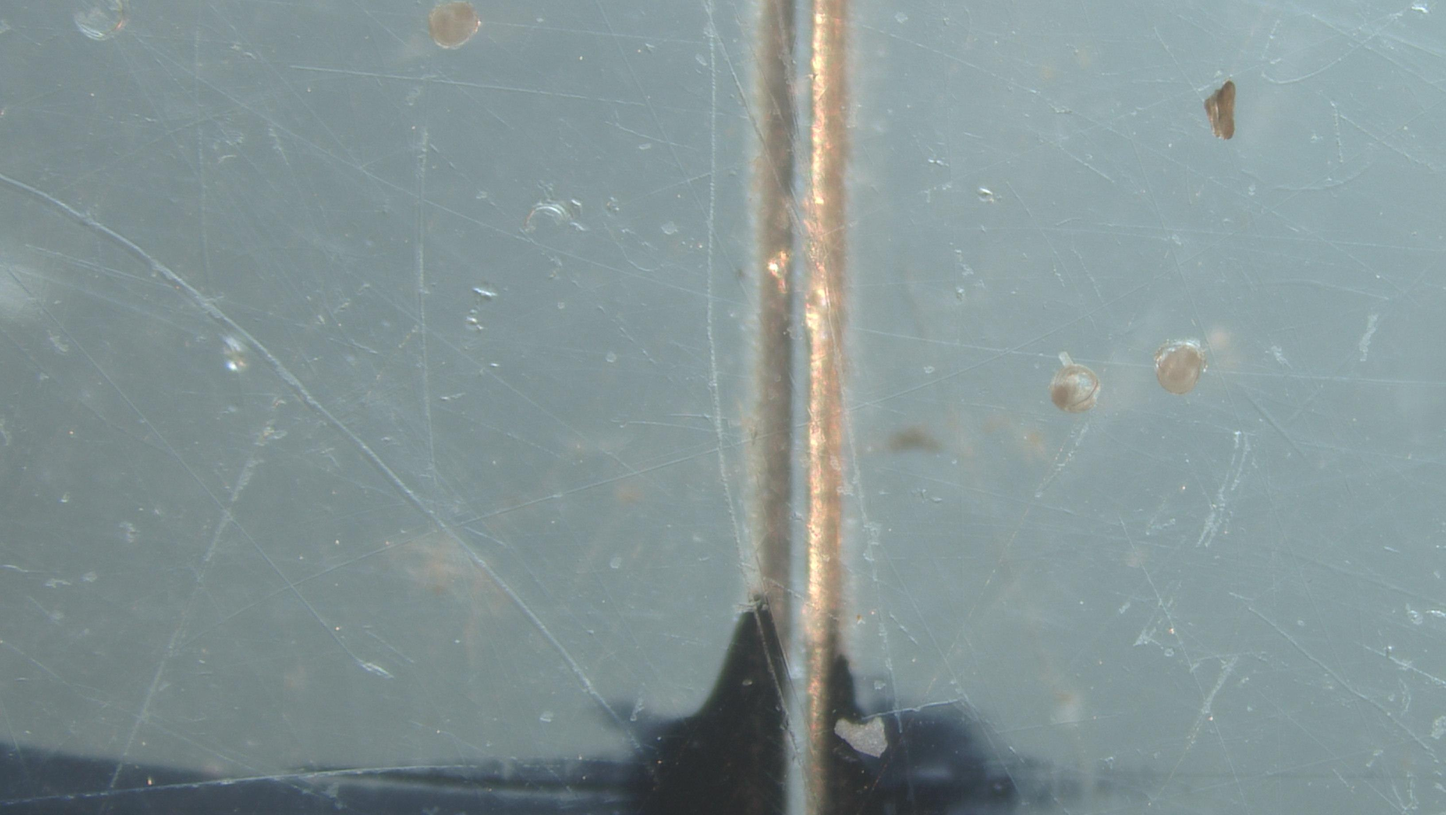dead: (74, 0, 127, 41)
live: (1049, 355, 1101, 413), (1153, 340, 1207, 395), (429, 0, 480, 49)
